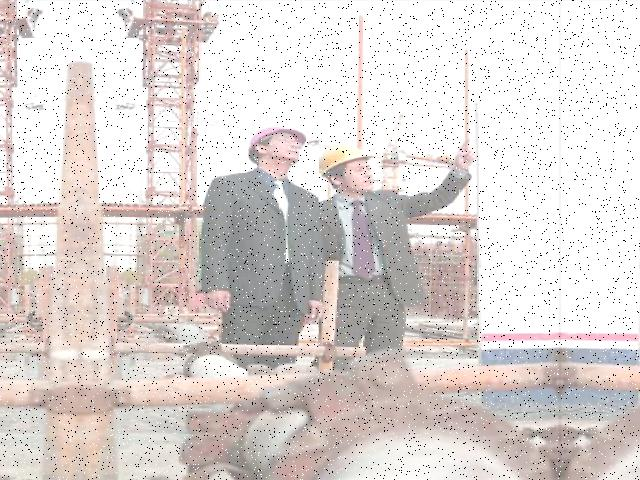Helmet: (244, 120, 311, 162), (316, 140, 381, 179)
